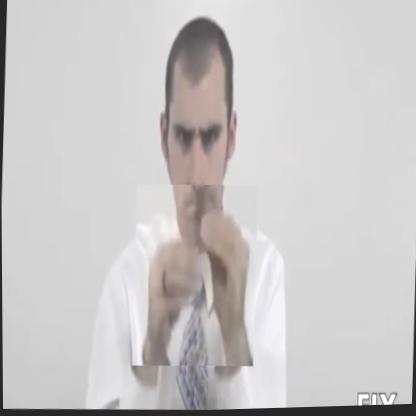Fix: (131, 183, 259, 370)
